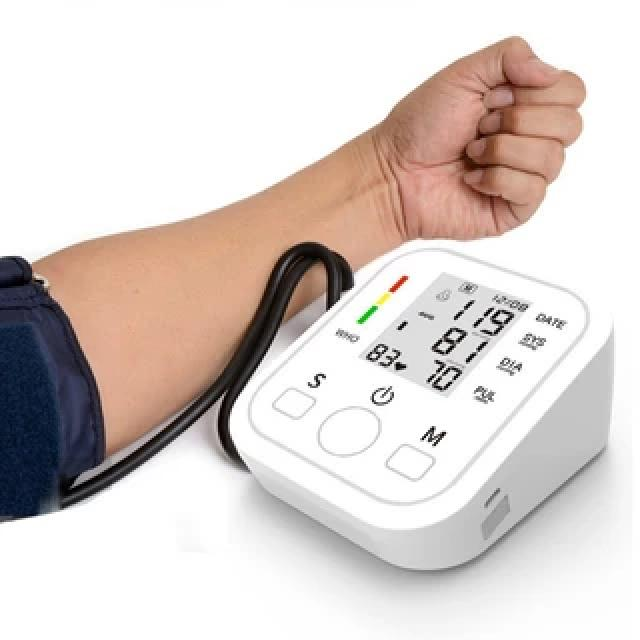dia: (421, 316, 493, 374)
pul: (412, 346, 467, 401)
ssd: (356, 237, 536, 422)
sys: (445, 291, 520, 346)
